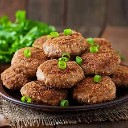cutlet: (35, 60, 83, 87), (44, 31, 89, 56), (20, 81, 66, 104), (74, 75, 116, 100), (82, 48, 121, 74), (11, 45, 47, 71), (1, 65, 28, 86)
